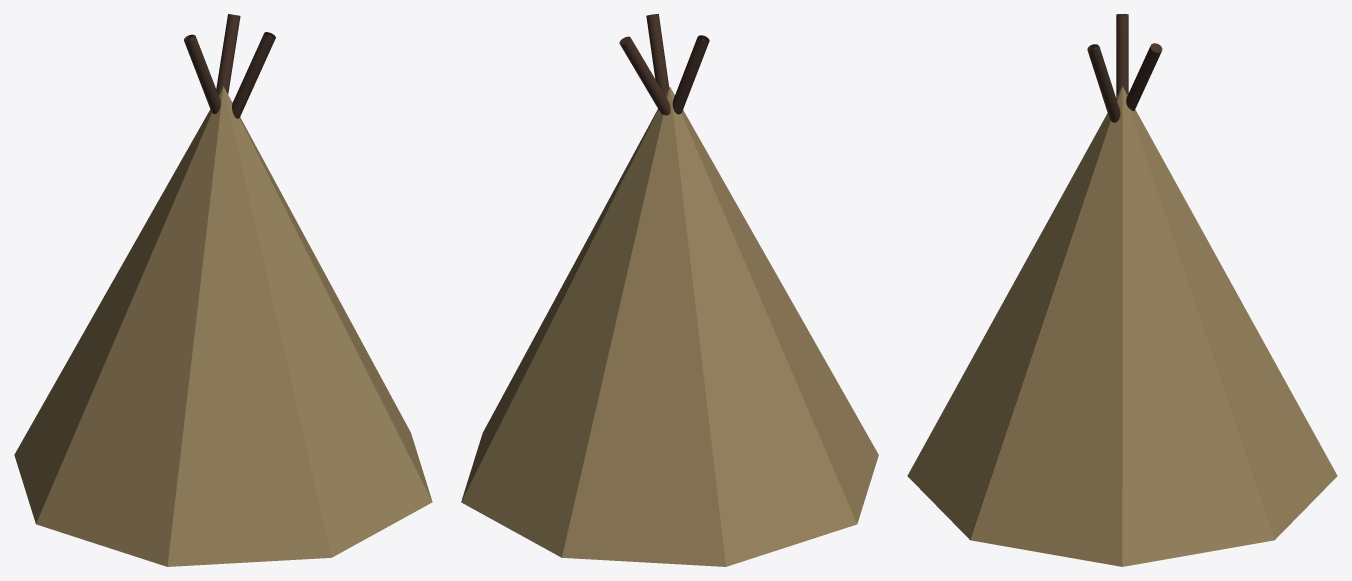
Rendered from Tepee.fbx.
3 views of the same model, side by side, from view 1: azimuth 30°, elevation 25°; view 2: azimuth 150°, elevation 25°; view 3: azimuth 270°, elevation 25° (orthographic).
Visible parts, largest first — view 1: Cone, Cylinder.002, Cylinder, Cylinder.001; view 2: Cone, Cylinder.001, Cylinder, Cylinder.002; view 3: Cone, Cylinder.002, Cylinder, Cylinder.001.
Boxes of the visible parts, <box> form: Cone: <box>14,86,432,566</box>; Cylinder.002: <box>232,32,275,118</box>; Cylinder: <box>184,34,220,113</box>; Cylinder.001: <box>216,14,240,94</box>; Cone: <box>461,87,878,566</box>; Cylinder.001: <box>619,36,670,115</box>; Cylinder: <box>672,35,709,114</box>; Cylinder.002: <box>646,14,669,95</box>; Cone: <box>907,86,1337,566</box>; Cylinder.002: <box>1087,44,1120,122</box>; Cylinder: <box>1116,14,1128,96</box>; Cylinder.001: <box>1126,43,1162,110</box>.
Bounding box in the file's own units: 200 × 229 × 200.
